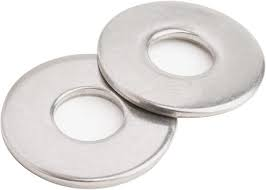No thread: (134, 27, 222, 78), (43, 91, 130, 135)
